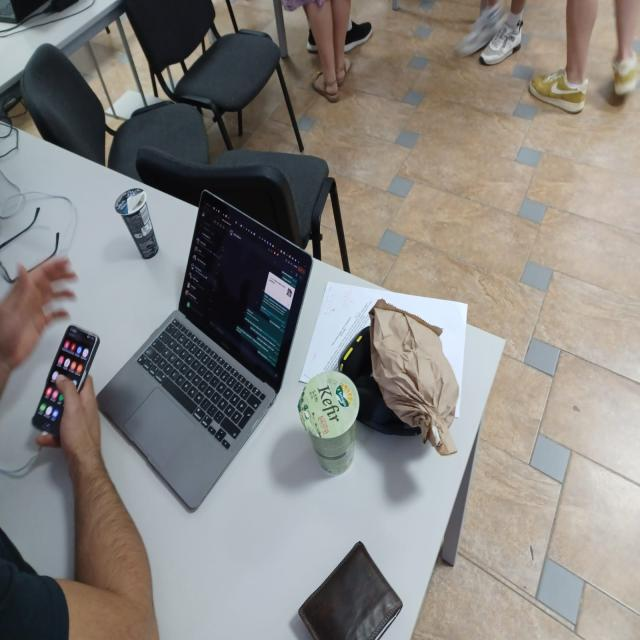Laptops_bbox: (101, 170, 322, 526)
